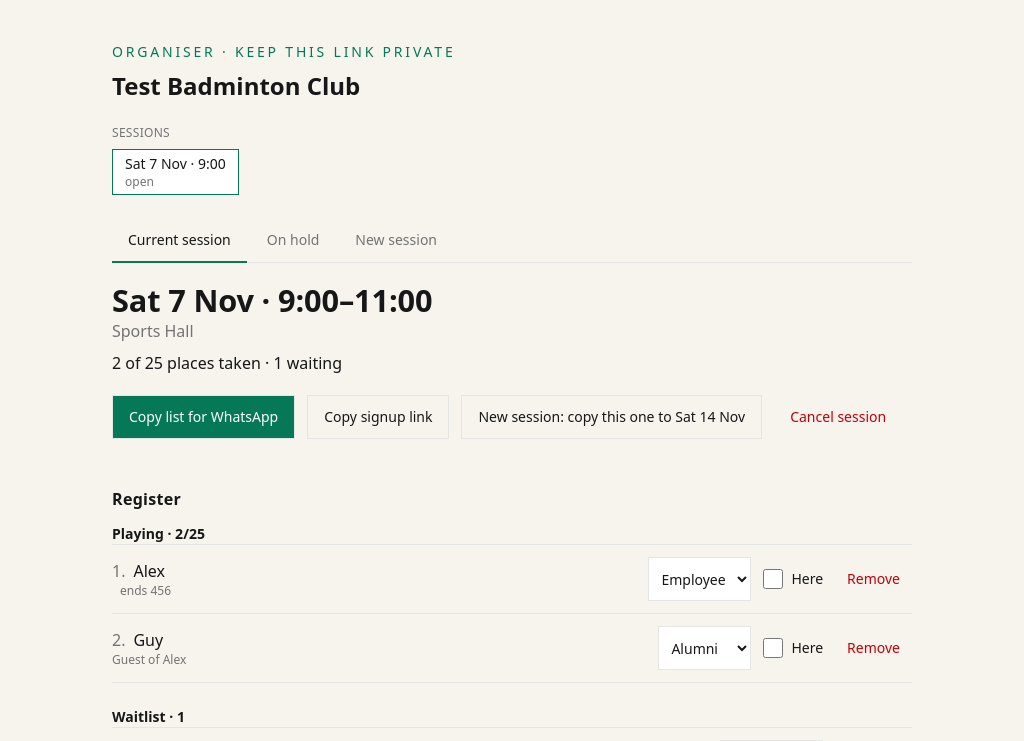
Test: new session by copying › shows the server's complaint against the field it names
The image size is (1024, 741).
Click the tab "New session" at (396, 241), box [339,219,453,263]
(page scrolled)
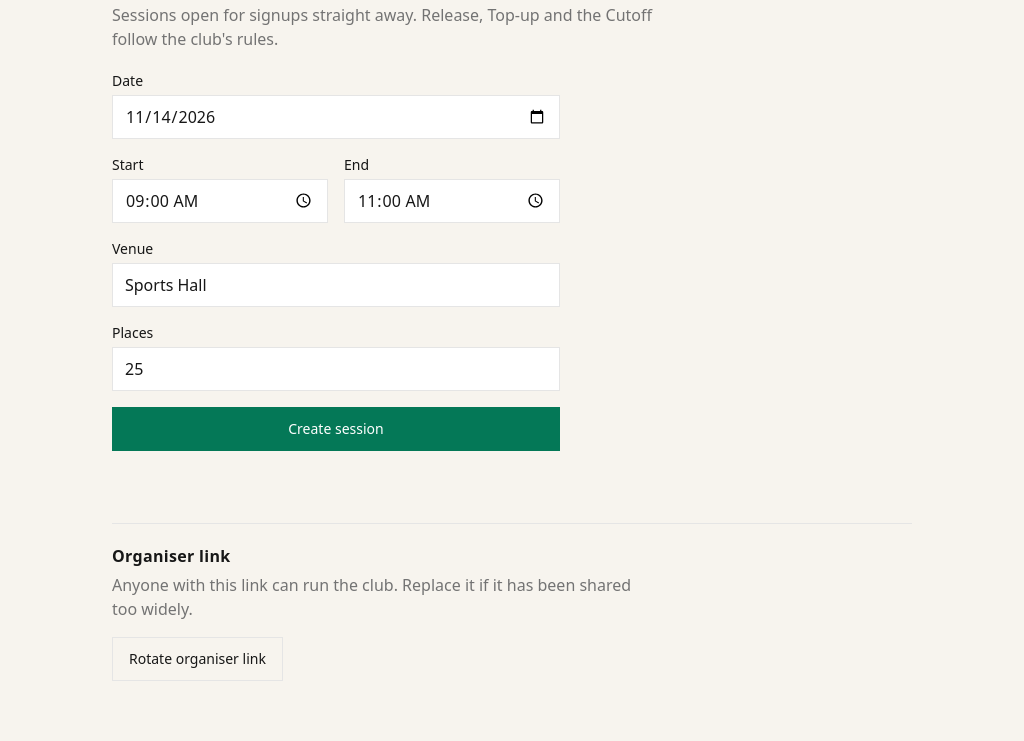
Click the button "Create session" at (336, 429), box [112,407,560,451]
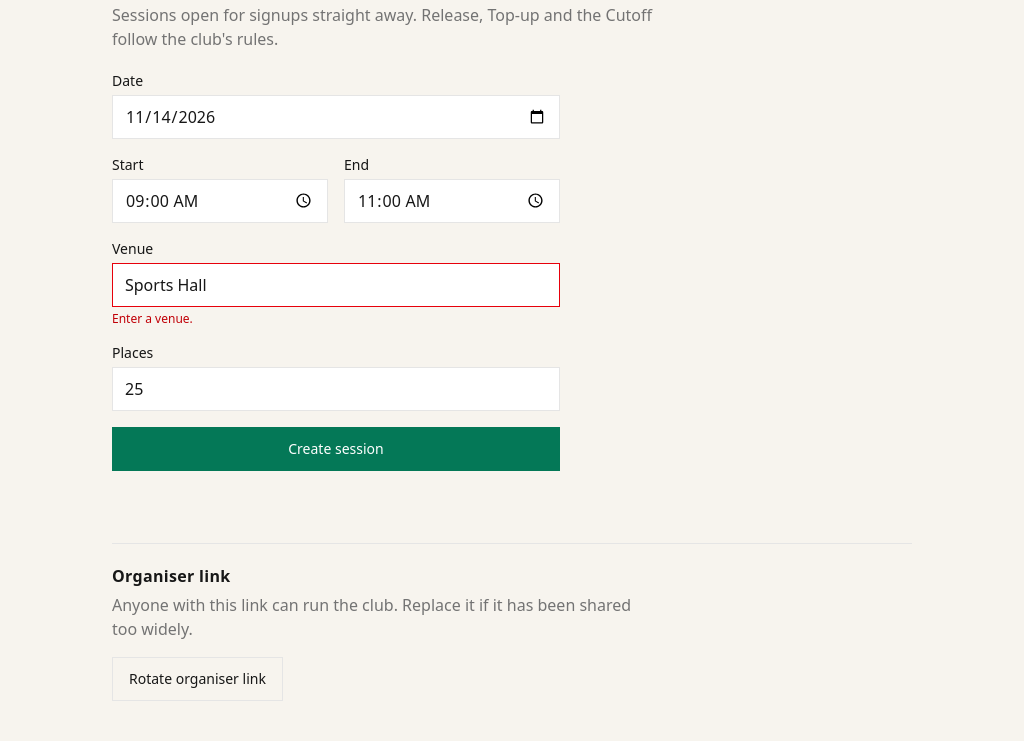
Expected: the text "Enter a venue." is shown, [112,310,193,327]
